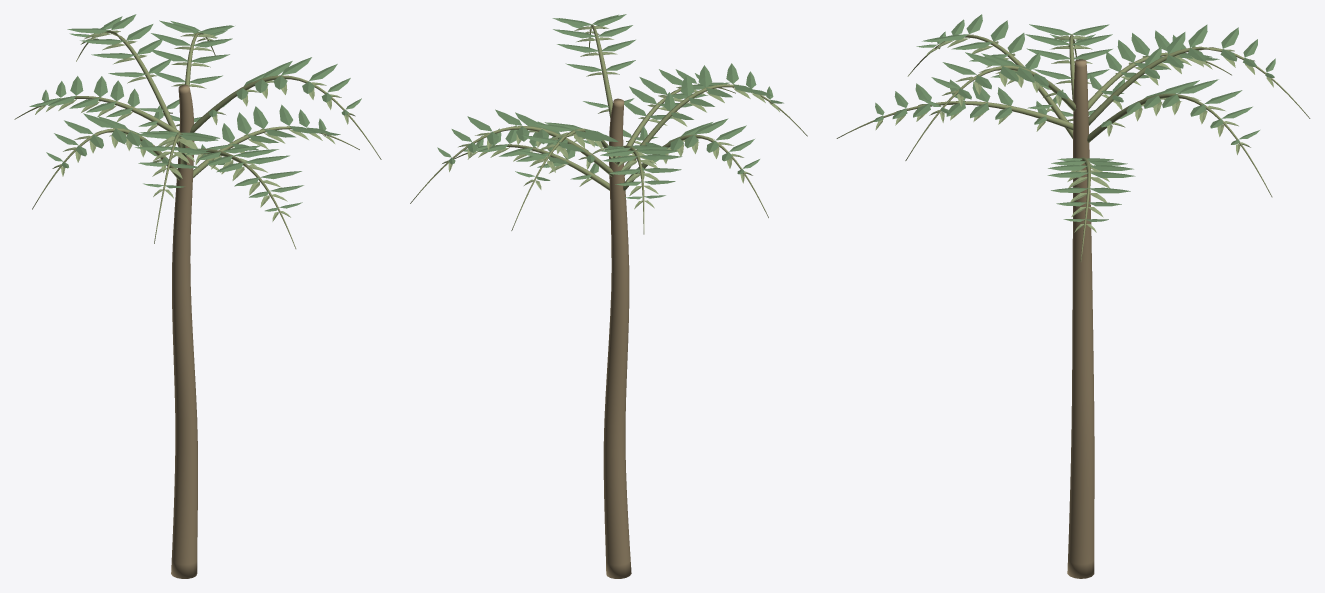
Rendered from paratingia.glb.
The picture shows the model from 3 angles, left to right: view 1: azimuth 30°, elevation 25°; view 2: azimuth 150°, elevation 25°; view 3: azimuth 270°, elevation 25°; orthographic projection. The views are drawn at different scales.
Parts seen in each view (by area): view 1: four-pinnule-rows-on-each-rachis-two-large-above-two-small-b, slender-single-stem-with-crown-leaf-bases, arching-compound-leaf-rachises; view 2: four-pinnule-rows-on-each-rachis-two-large-above-two-small-b, slender-single-stem-with-crown-leaf-bases, arching-compound-leaf-rachises; view 3: four-pinnule-rows-on-each-rachis-two-large-above-two-small-b, slender-single-stem-with-crown-leaf-bases, arching-compound-leaf-rachises.
Boxes of the visible parts, box(x1,y1,x2,y2) form: four-pinnule-rows-on-each-rachis-two-large-above-two-small-b: box(29, 14, 361, 221); slender-single-stem-with-crown-leaf-bases: box(171, 84, 197, 578); arching-compound-leaf-rachises: box(14, 30, 381, 248); four-pinnule-rows-on-each-rachis-two-large-above-two-small-b: box(437, 14, 783, 209); slender-single-stem-with-crown-leaf-bases: box(603, 98, 631, 578); arching-compound-leaf-rachises: box(410, 25, 807, 234); four-pinnule-rows-on-each-rachis-two-large-above-two-small-b: box(873, 14, 1275, 232); slender-single-stem-with-crown-leaf-bases: box(1067, 59, 1094, 578); arching-compound-leaf-rachises: box(836, 34, 1310, 261).
Bounding box in the file's own units: 0.6021 × 0.9 × 0.7138.
